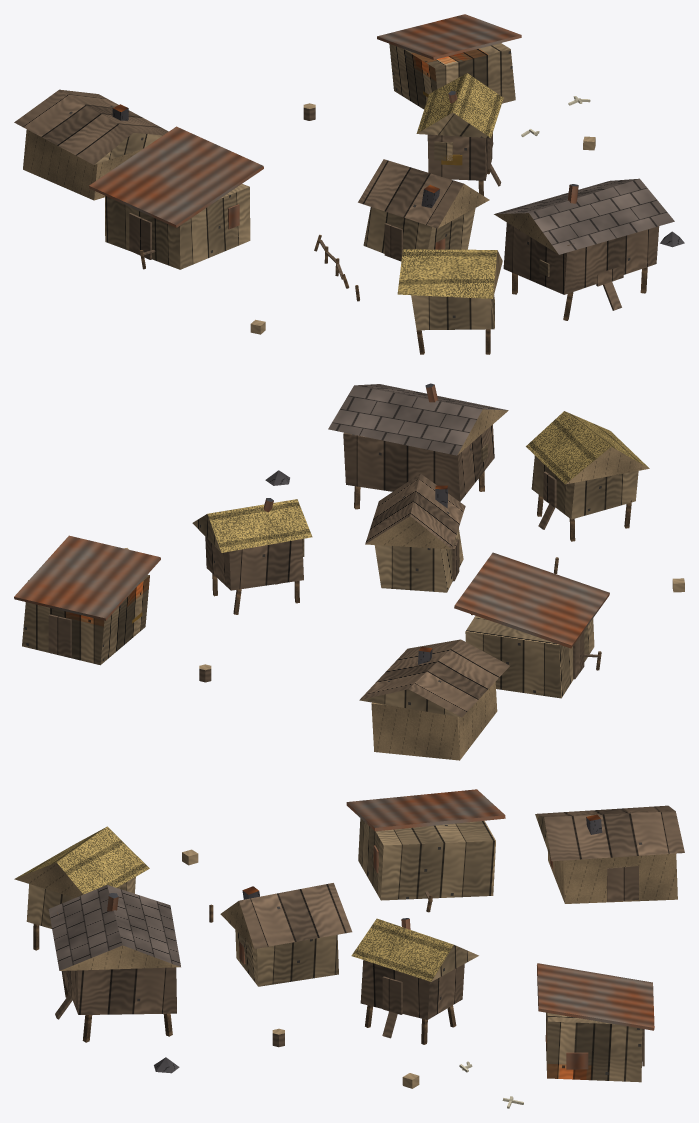
File: cm_goblin_peasant_b.glb
3 renders of one model, top to bottom at view 1: azimuth 30°, elevation 25°; view 2: azimuth 150°, elevation 25°; view 3: azimuth 270°, elevation 25°, orthographic. The views are drawn at different scales.
Visible parts, largest first — view 1: cm_goblin_peasant_b; view 2: cm_goblin_peasant_b; view 3: cm_goblin_peasant_b.
Boxes of the visible parts, left/top/right/bottom form: cm_goblin_peasant_b: left=14, top=14, right=684, bottom=354; cm_goblin_peasant_b: left=14, top=383, right=684, bottom=760; cm_goblin_peasant_b: left=14, top=789, right=684, bottom=1108.
Bounding box in the file's own units: 1.57 × 0.3286 × 1.69.
1 material, 1 textured.
